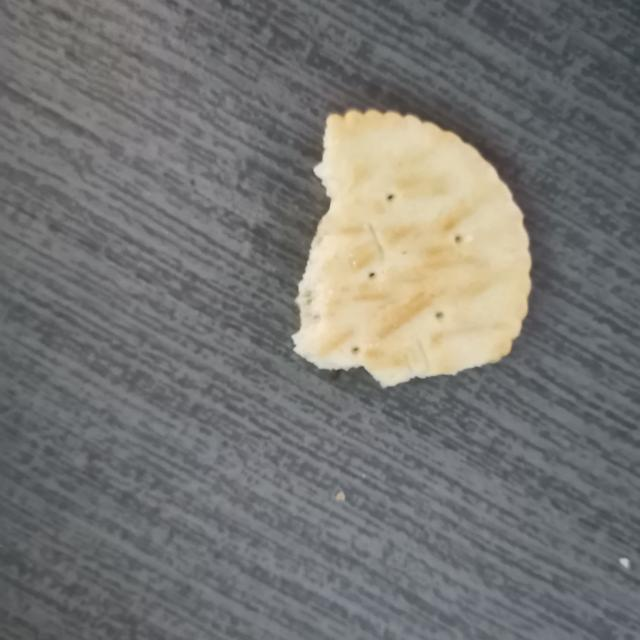Broken: (290, 106, 533, 389)
